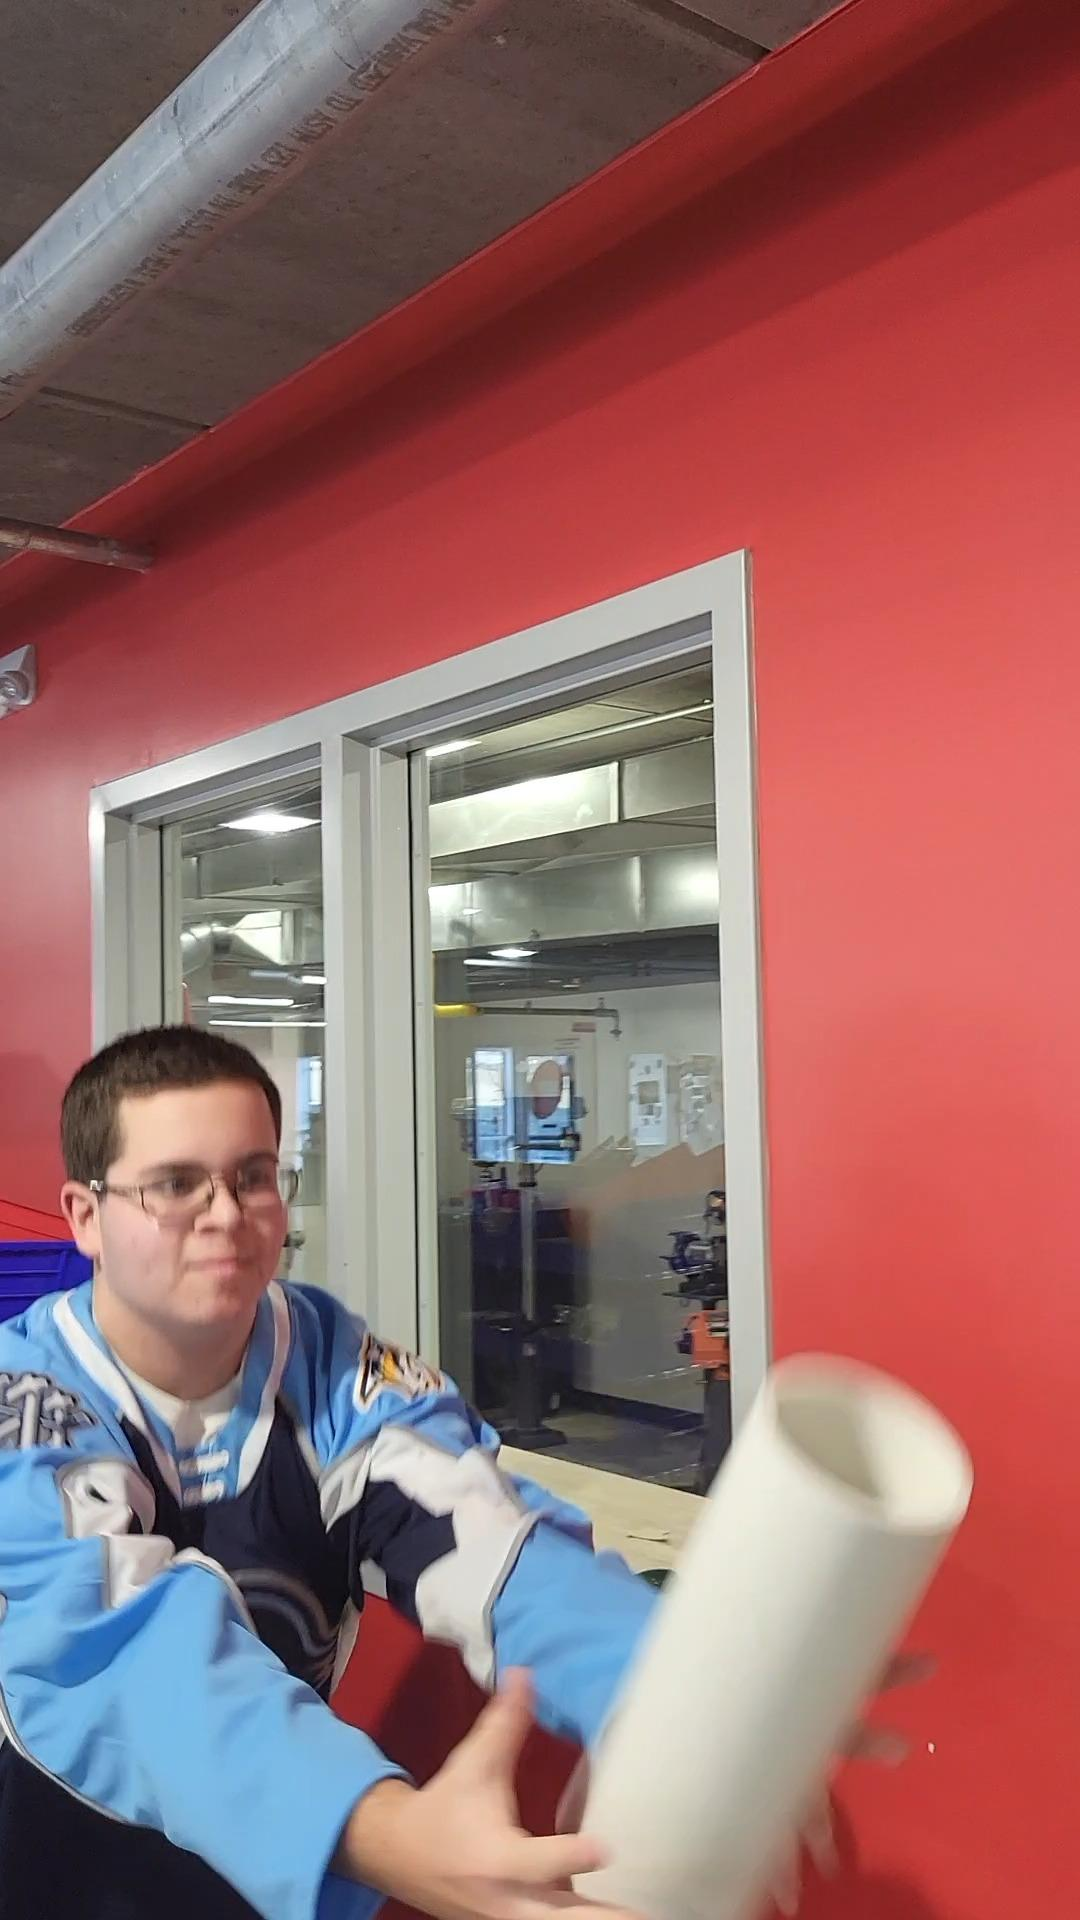coral: (560, 1353, 973, 1920)
